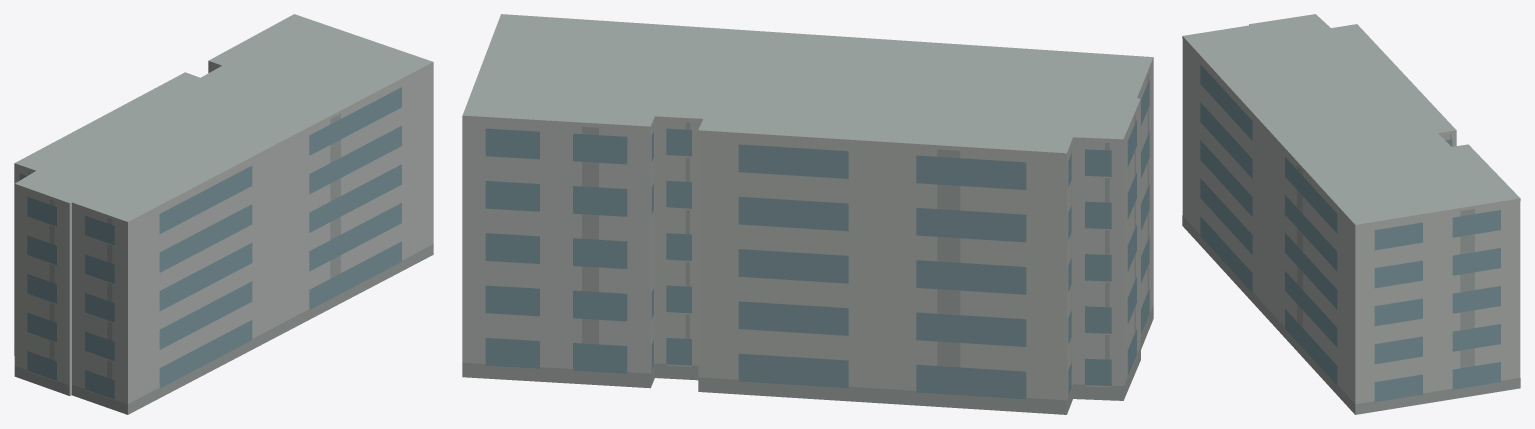
The model's file is survey-upis-32836799.glb.
The picture shows the model from 3 angles, left to right: view 1: azimuth 30°, elevation 25°; view 2: azimuth 150°, elevation 25°; view 3: azimuth 270°, elevation 25°; orthographic projection. The views are drawn at different scales.
Parts seen in each view (by area): view 1: survey-upis-32836799.tmp; view 2: survey-upis-32836799.tmp; view 3: survey-upis-32836799.tmp.
Part boxes in pixels (bbox=[...]): survey-upis-32836799.tmp: bbox=[14, 14, 433, 414]; survey-upis-32836799.tmp: bbox=[462, 14, 1153, 414]; survey-upis-32836799.tmp: bbox=[1182, 14, 1520, 414].
Size of the model in its own units: 35.73 by 15 by 24.19.
